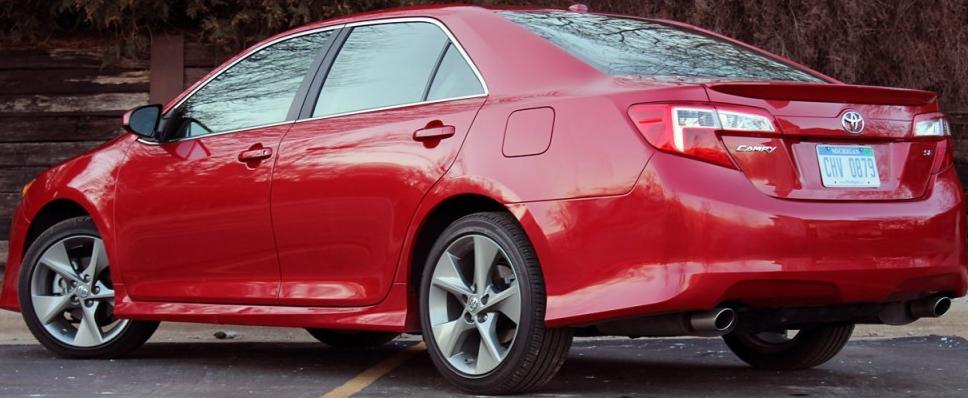back_view: (634, 80, 965, 323)
backlight: (621, 91, 801, 176)
side_glass: (168, 18, 485, 141)
